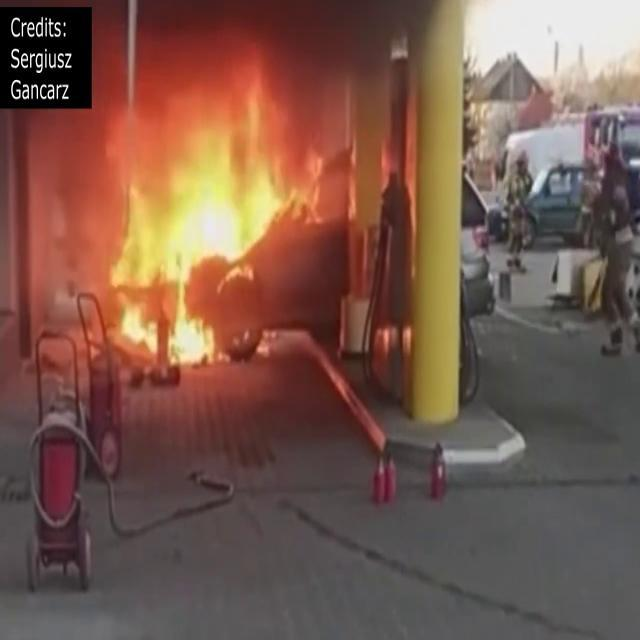Fire: (84, 82, 316, 378)
